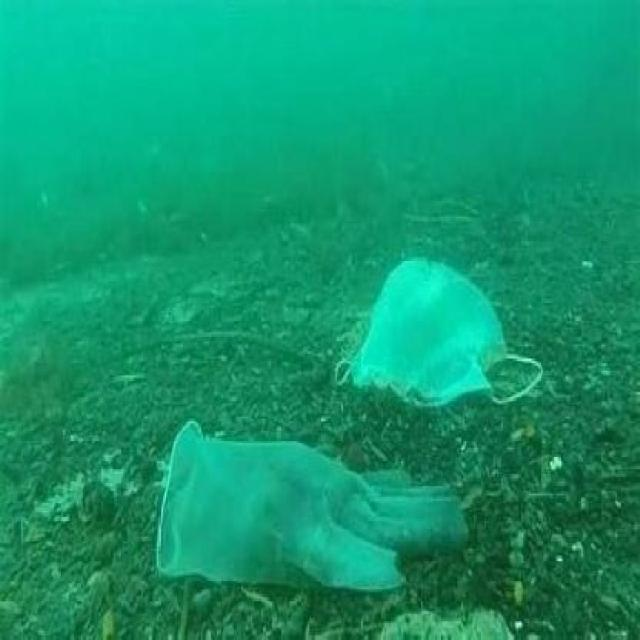Mask: (331, 250, 543, 407)
glove: (156, 414, 472, 592)
